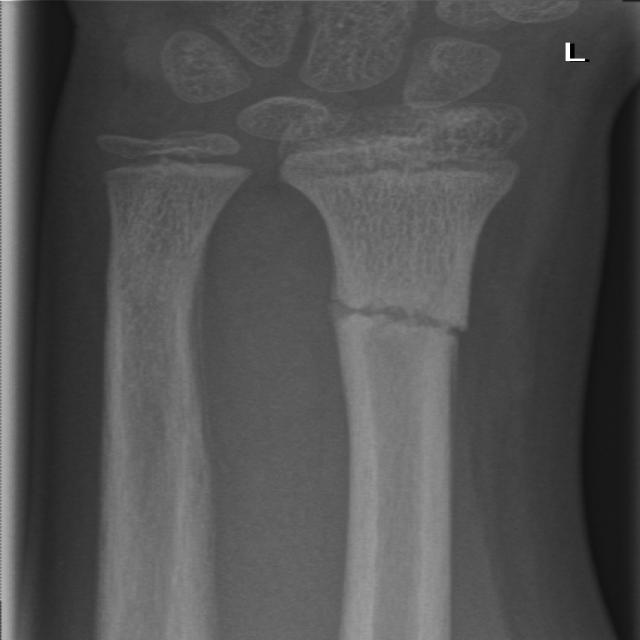radius fracture: (318, 235, 489, 408)
